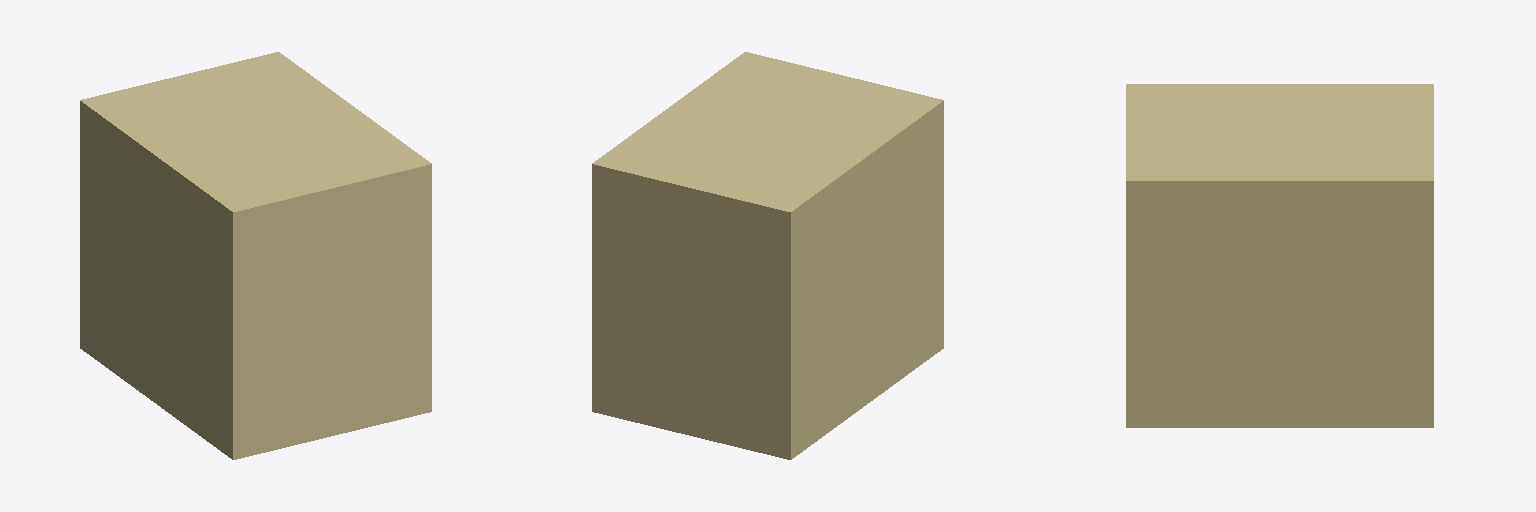
3 views of the same model, side by side, from view 1: azimuth 30°, elevation 25°; view 2: azimuth 150°, elevation 25°; view 3: azimuth 270°, elevation 25° (orthographic).
Visible parts, largest first — view 1: mueble; view 2: mueble; view 3: mueble.
Boxes of the visible parts, <box> form: mueble: <box>80,52,431,459</box>; mueble: <box>592,52,943,459</box>; mueble: <box>1126,84,1433,427</box>.
Size of the model in its own units: 3.94 by 4.69 by 5.26.
1 materials, 1 textured.